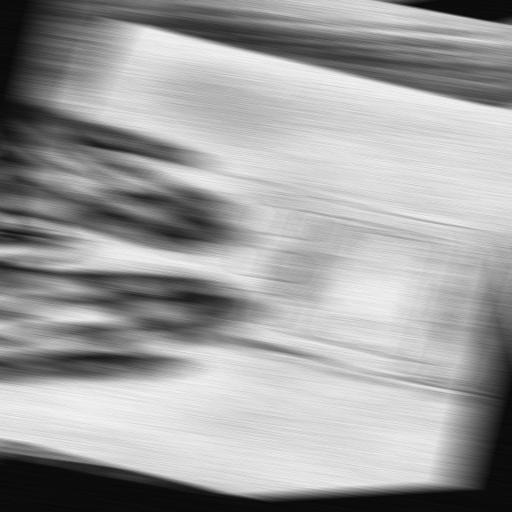bottom_right: (109, 13, 136, 26)
mobile: (27, 122, 512, 407)
